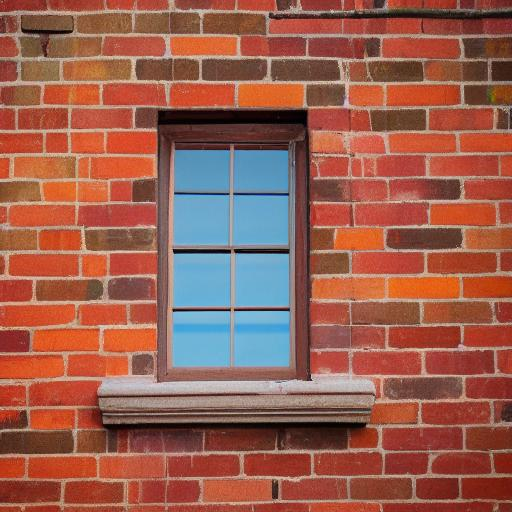Window: (98, 107, 379, 430)
